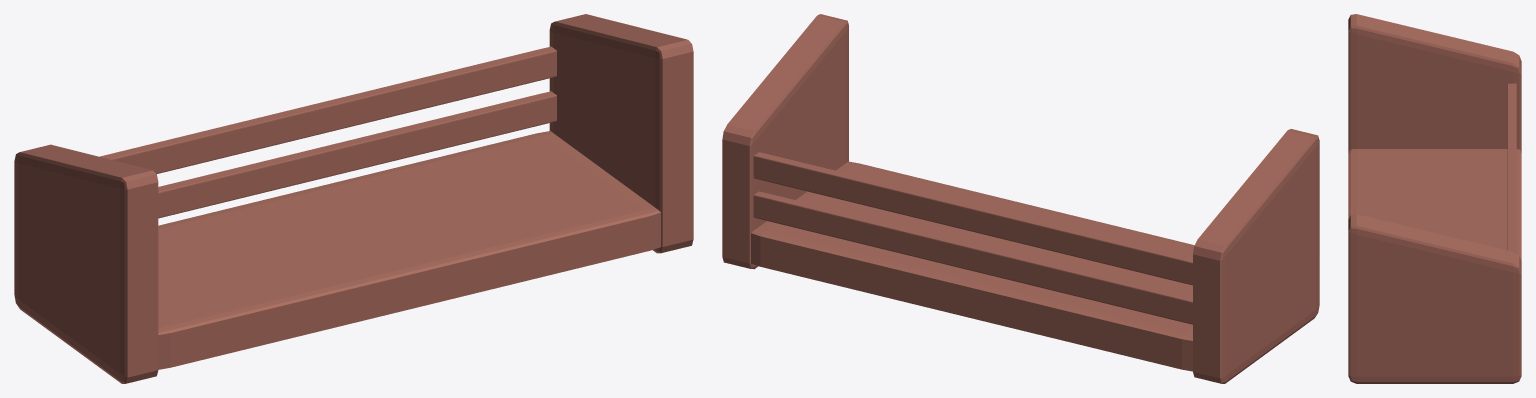
The model's file is Wall_bookshelf_001.glb.
3 renders of one model, left to right at view 1: azimuth 30°, elevation 25°; view 2: azimuth 150°, elevation 25°; view 3: azimuth 270°, elevation 25°, orthographic. The views are drawn at different scales.
Parts seen in each view (by area): view 1: Wall_bookshelf_001; view 2: Wall_bookshelf_001; view 3: Wall_bookshelf_001.
Part boxes in pixels (x1,y1,x2,y2): Wall_bookshelf_001: (14,14,693,383); Wall_bookshelf_001: (722,14,1319,383); Wall_bookshelf_001: (1348,14,1521,383).
Bounding box in the file's own units: 2.45 × 0.8474 × 0.8425.
